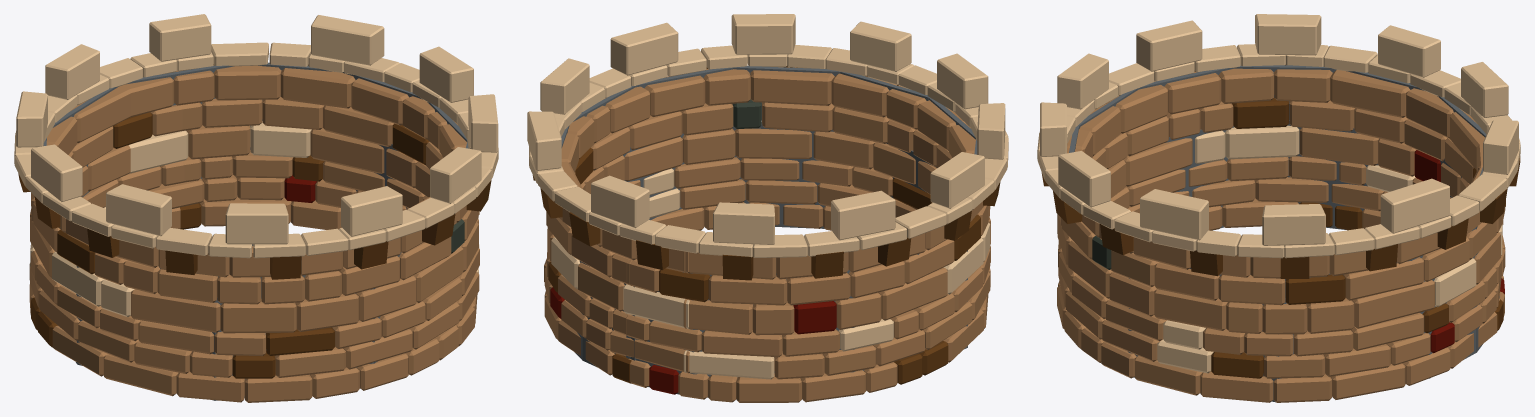
The model's file is top-section-with-crenellation.glb.
The picture shows the model from 3 angles, left to right: view 1: azimuth 30°, elevation 25°; view 2: azimuth 150°, elevation 25°; view 3: azimuth 270°, elevation 25°; orthographic projection.
Visible parts, largest first — view 1: main-wall.112, top-section-2.002, top-section-1.001, grout-wall.004, strut-1.001, strut-11.001, strut-8.001, strut-15.001, strut-12.001, strut-4.001; view 2: main-wall.112, top-section-2.002, top-section-1.001, grout-wall.004, strut-6.001, strut-16.001, strut-2.001, strut-10.001, strut-9.001, strut-4.001; view 3: main-wall.112, top-section-2.002, top-section-1.001, grout-wall.004, strut-13.001, strut-14.001, strut-5.001, strut-3.001, strut-7.001, strut-9.001, strut-12.001.
Part boxes in pixels (<box>): main-wall.112: <box>29,65,479,402</box>; top-section-2.002: <box>16,14,498,244</box>; top-section-1.001: <box>14,42,498,258</box>; grout-wall.004: <box>43,62,468,400</box>; strut-1.001: <box>354,241,388,269</box>; strut-11.001: <box>270,256,301,279</box>; strut-8.001: <box>165,250,197,274</box>; strut-15.001: <box>87,228,119,257</box>; strut-12.001: <box>422,214,455,245</box>; strut-4.001: <box>34,196,60,228</box>; main-wall.112: <box>544,67,990,402</box>; top-section-2.002: <box>527,14,1005,244</box>; top-section-1.001: <box>529,44,1008,257</box>; grout-wall.004: <box>561,66,977,397</box>; strut-6.001: <box>811,251,843,278</box>; strut-16.001: <box>722,254,753,280</box>; strut-2.001: <box>636,240,668,270</box>; strut-10.001: <box>878,237,911,266</box>; strut-9.001: <box>569,212,600,246</box>; strut-4.001: <box>944,210,971,240</box>; main-wall.112: <box>1057,68,1505,402</box>; top-section-2.002: <box>1040,14,1518,245</box>; top-section-1.001: <box>1037,44,1520,258</box>; grout-wall.004: <box>1069,65,1499,402</box>; strut-13.001: <box>1190,250,1222,276</box>; strut-14.001: <box>1366,244,1397,271</box>; strut-5.001: <box>1100,224,1133,255</box>; strut-3.001: <box>1280,256,1309,278</box>; strut-7.001: <box>1437,218,1468,249</box>; strut-9.001: <box>1480,188,1507,223</box>; strut-12.001: <box>1053,191,1082,223</box>.
Size of the model in its own units: 3.12 by 1.4 by 3.12.
